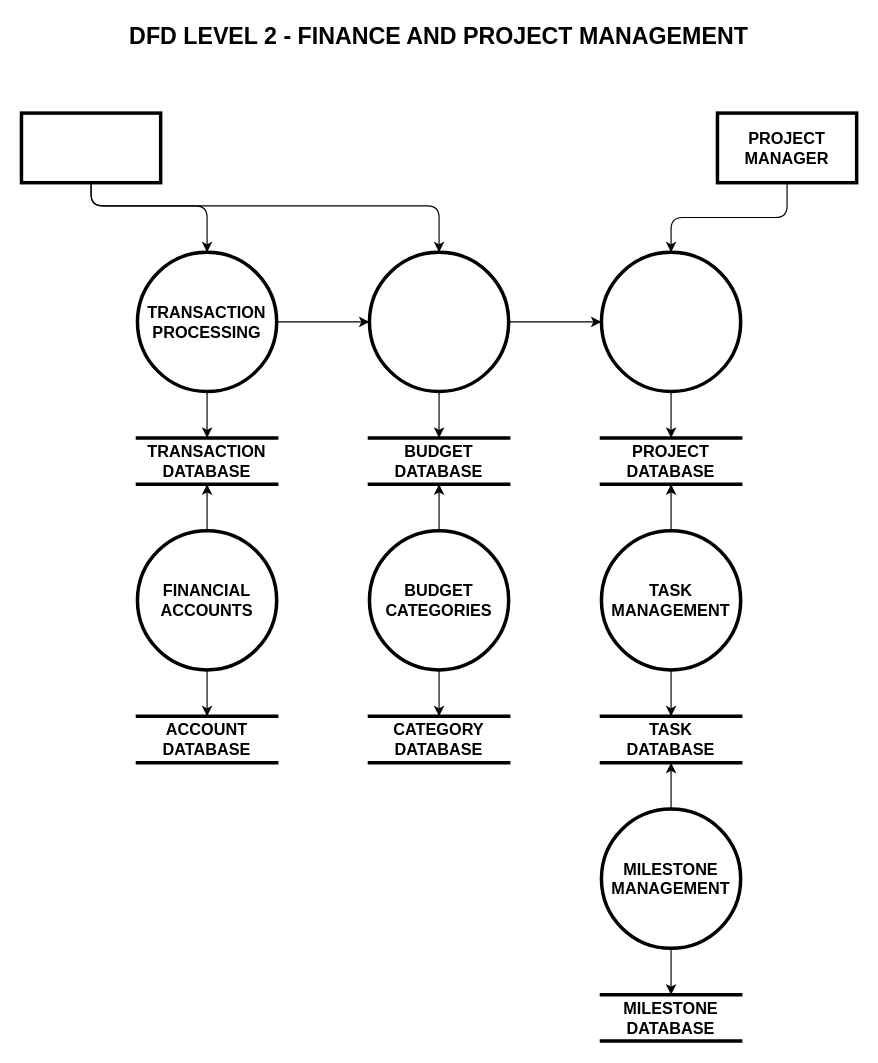
Image size: 878x1063. Some labels were removed from this diagram. Here are the shapes that lost their labels. From the top down, the centre of each, then its label:
[90,147]: FINANCE MANAGER
[438,321]: BUDGET MANAGEMENT
[670,321]: PROJECT MANAGEMENT
